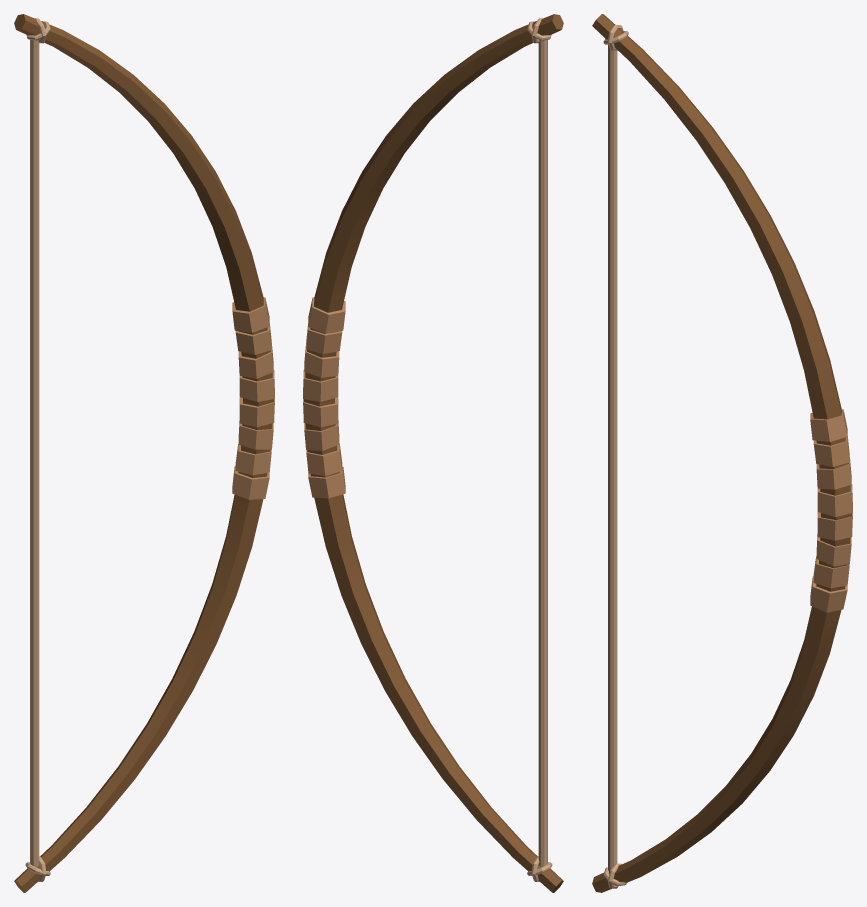
The model's file is Bow_01.fbx.
3 renders of one model, left to right at view 1: azimuth 30°, elevation 25°; view 2: azimuth 150°, elevation 25°; view 3: azimuth 330°, elevation 25°, orthographic.
Visible parts, largest first — view 1: Bow_01; view 2: Bow_01; view 3: Bow_01.
Part boxes in pixels (left/top/right/bottom): Bow_01: left=14, top=14, right=274, bottom=892; Bow_01: left=303, top=14, right=563, bottom=892; Bow_01: left=592, top=14, right=852, bottom=892.
Bounding box in the file's own units: 31.09 × 101 × 3.68.
